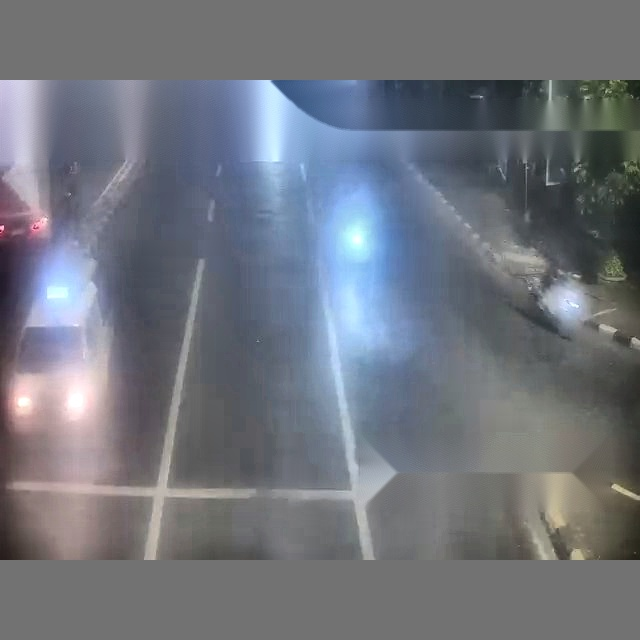Bis: (100, 57, 622, 558)
